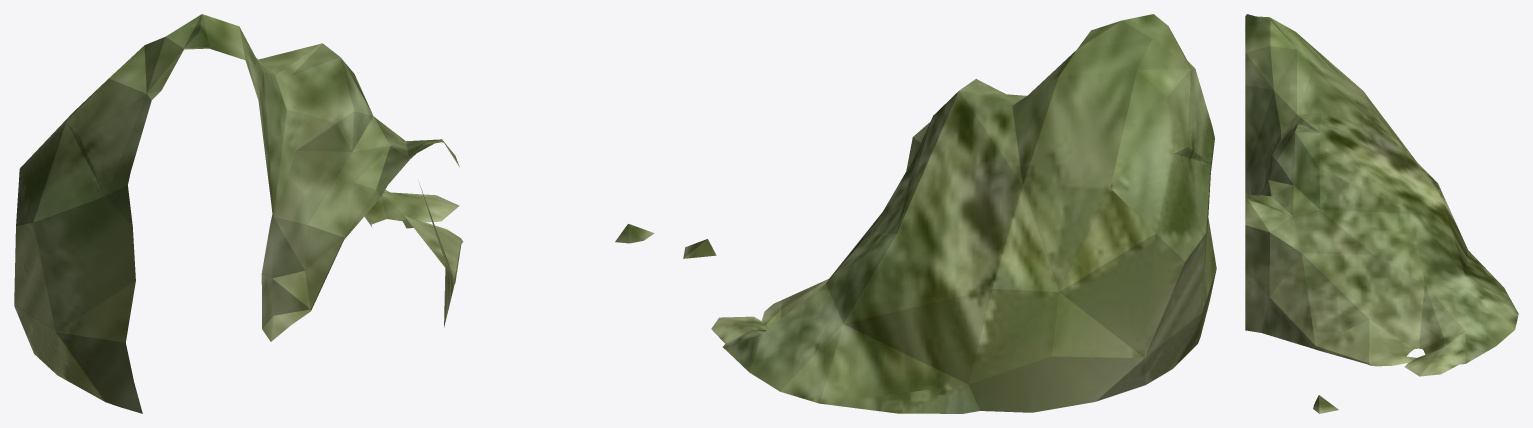
3 views of the same model, side by side, from view 1: azimuth 30°, elevation 25°; view 2: azimuth 150°, elevation 25°; view 3: azimuth 270°, elevation 25° (orthographic). The views are drawn at different scales.
Bounding box in the file's own units: 1.5 × 0.838 × 0.8727.
1 material, 1 textured.
